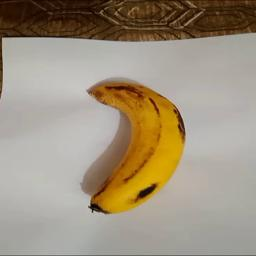Banana Semifresh: (85, 81, 184, 212)
